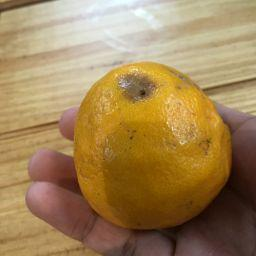Unripe: (75, 63, 235, 227)
